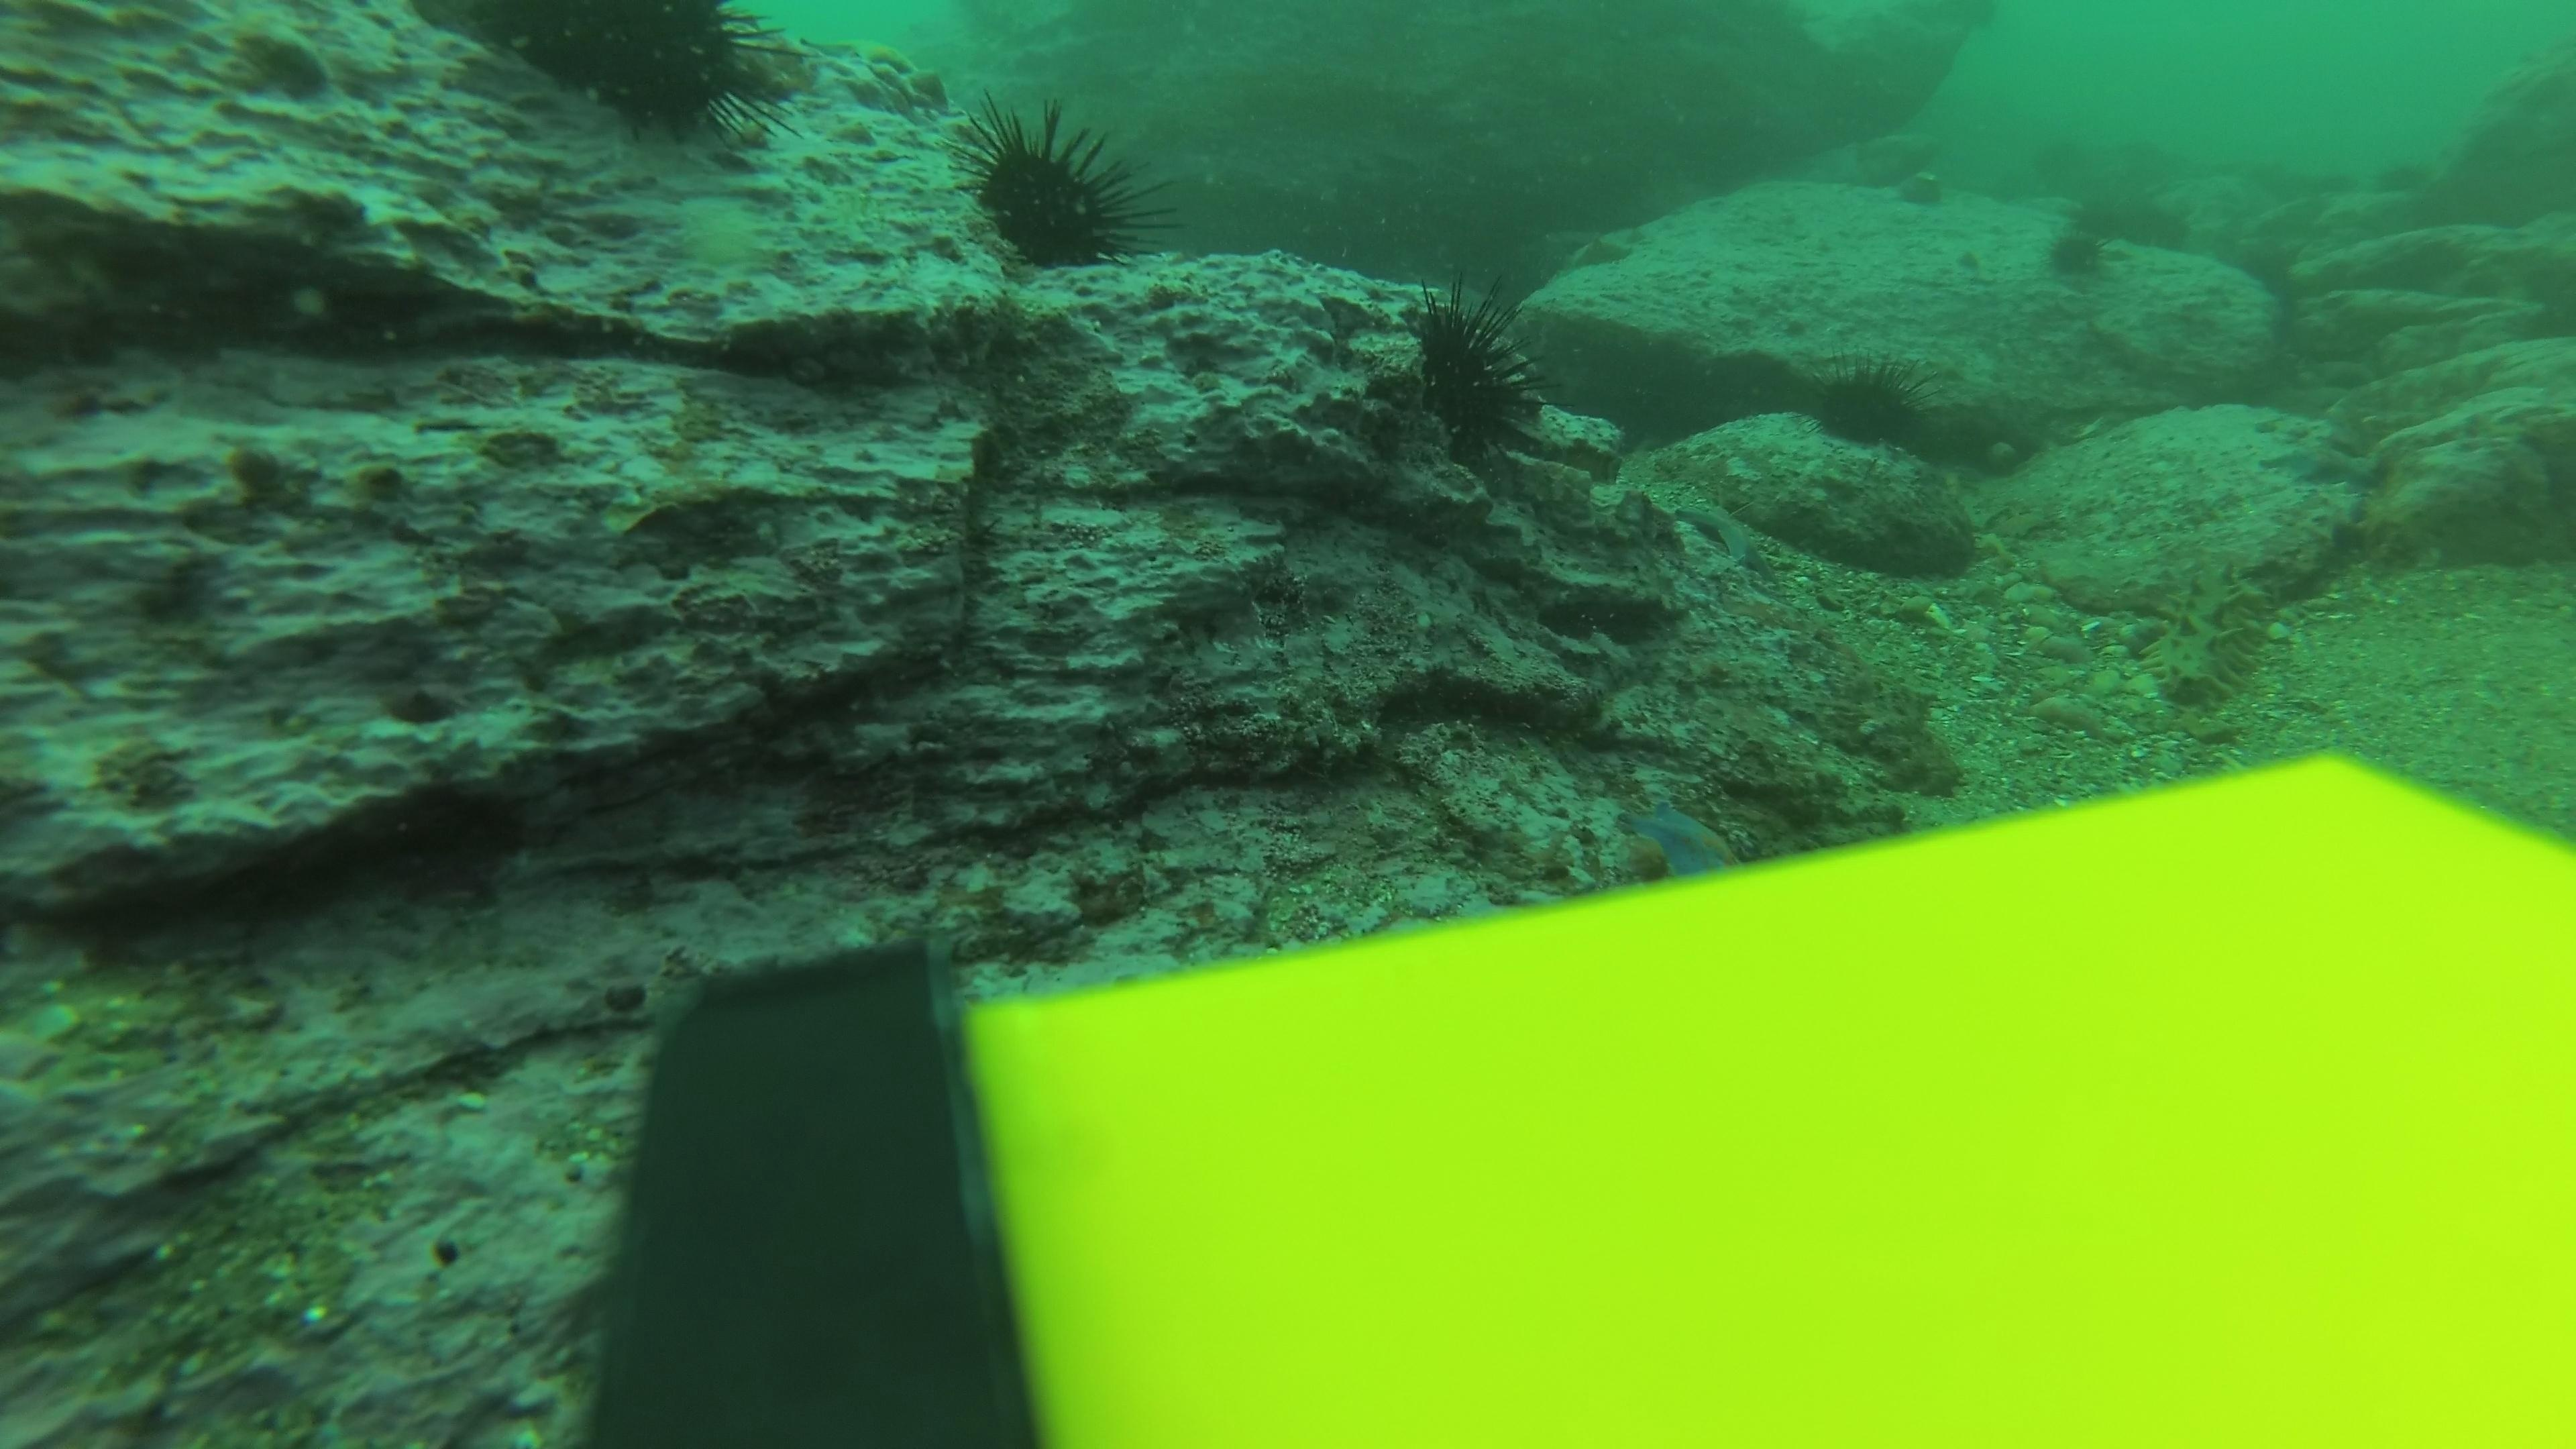echinus: (465, 2, 796, 156), (950, 94, 1164, 278), (1394, 280, 1557, 476), (1805, 357, 1932, 458), (2365, 134, 2454, 212), (2036, 211, 2123, 288)
holothurian: (2148, 556, 2284, 718)
starfish: (784, 30, 957, 117), (1654, 479, 1790, 580), (1619, 791, 1748, 878), (2256, 430, 2383, 494), (1560, 221, 1644, 276)
